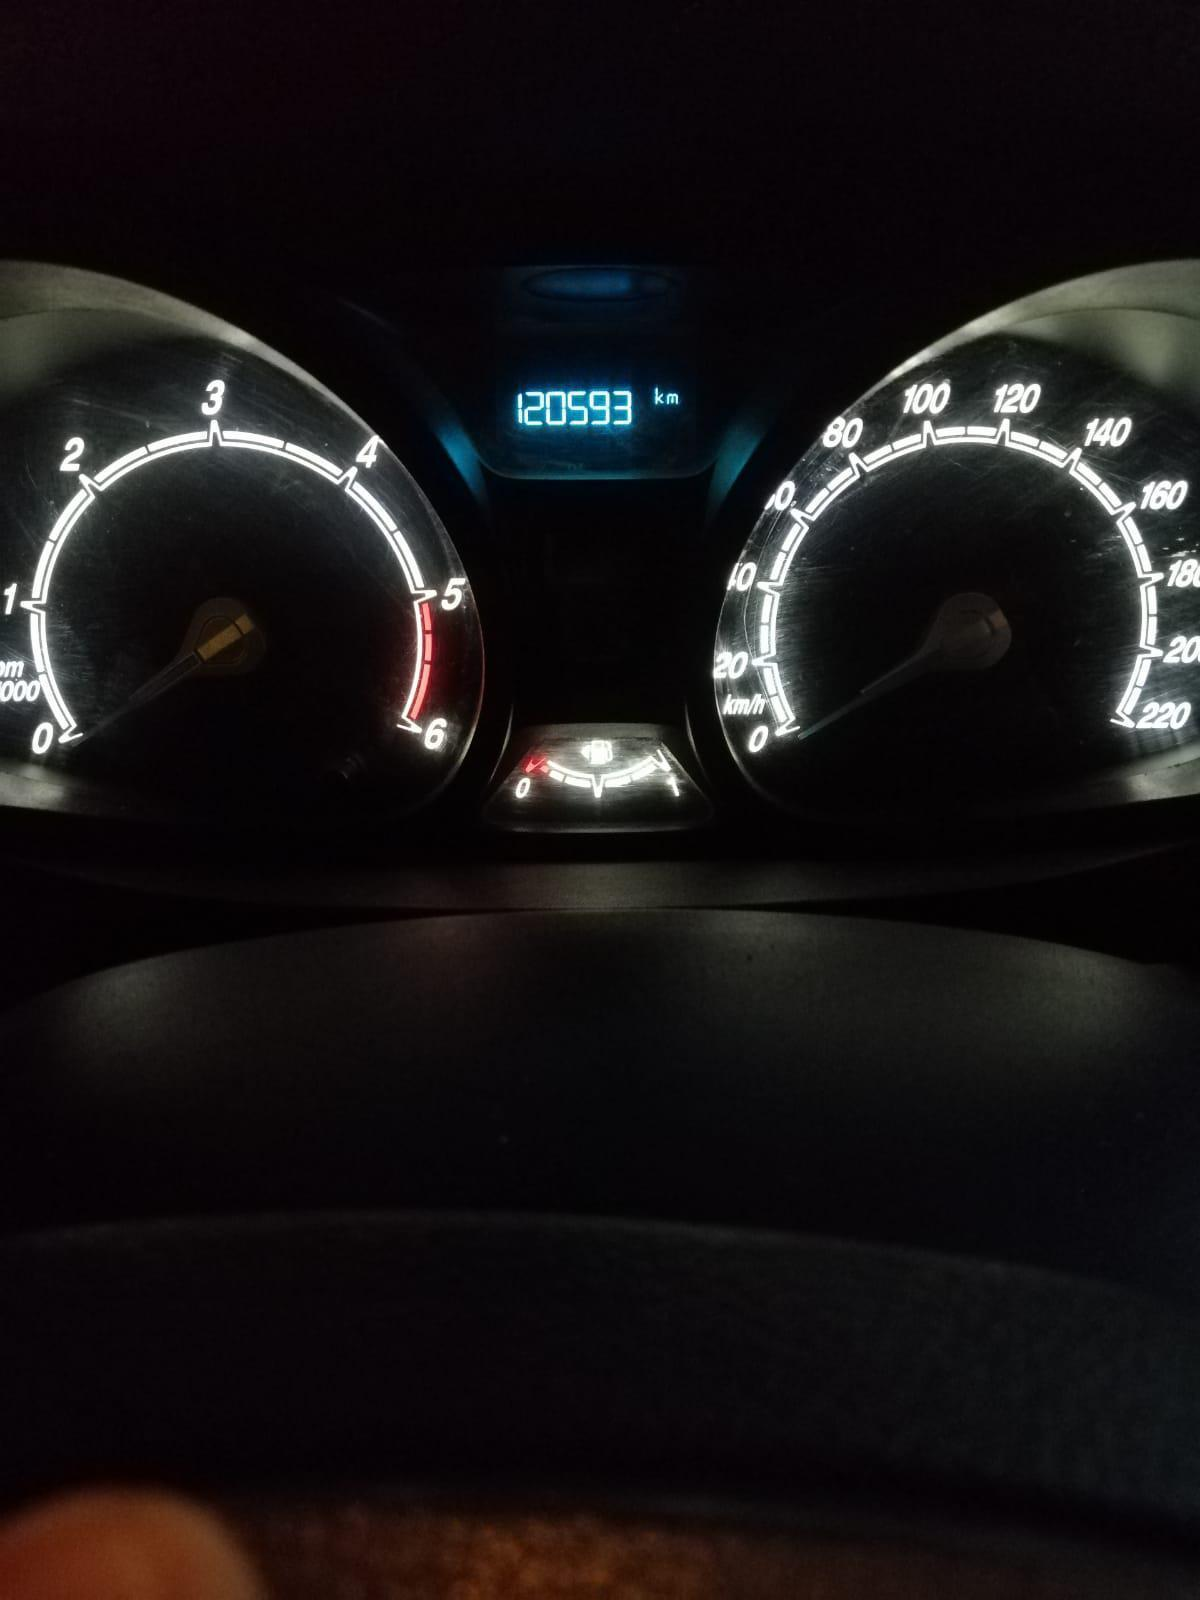0: (545, 389, 567, 426)
1: (516, 391, 524, 426)
2: (524, 389, 545, 427)
3: (613, 388, 632, 426)
5: (568, 389, 587, 425)
9: (590, 388, 610, 426)
X: (653, 384, 666, 404), (666, 391, 679, 406)
odometer: (498, 367, 691, 457)
